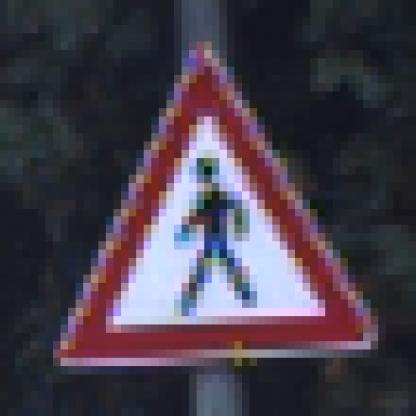crosswalk: (51, 48, 386, 388)
